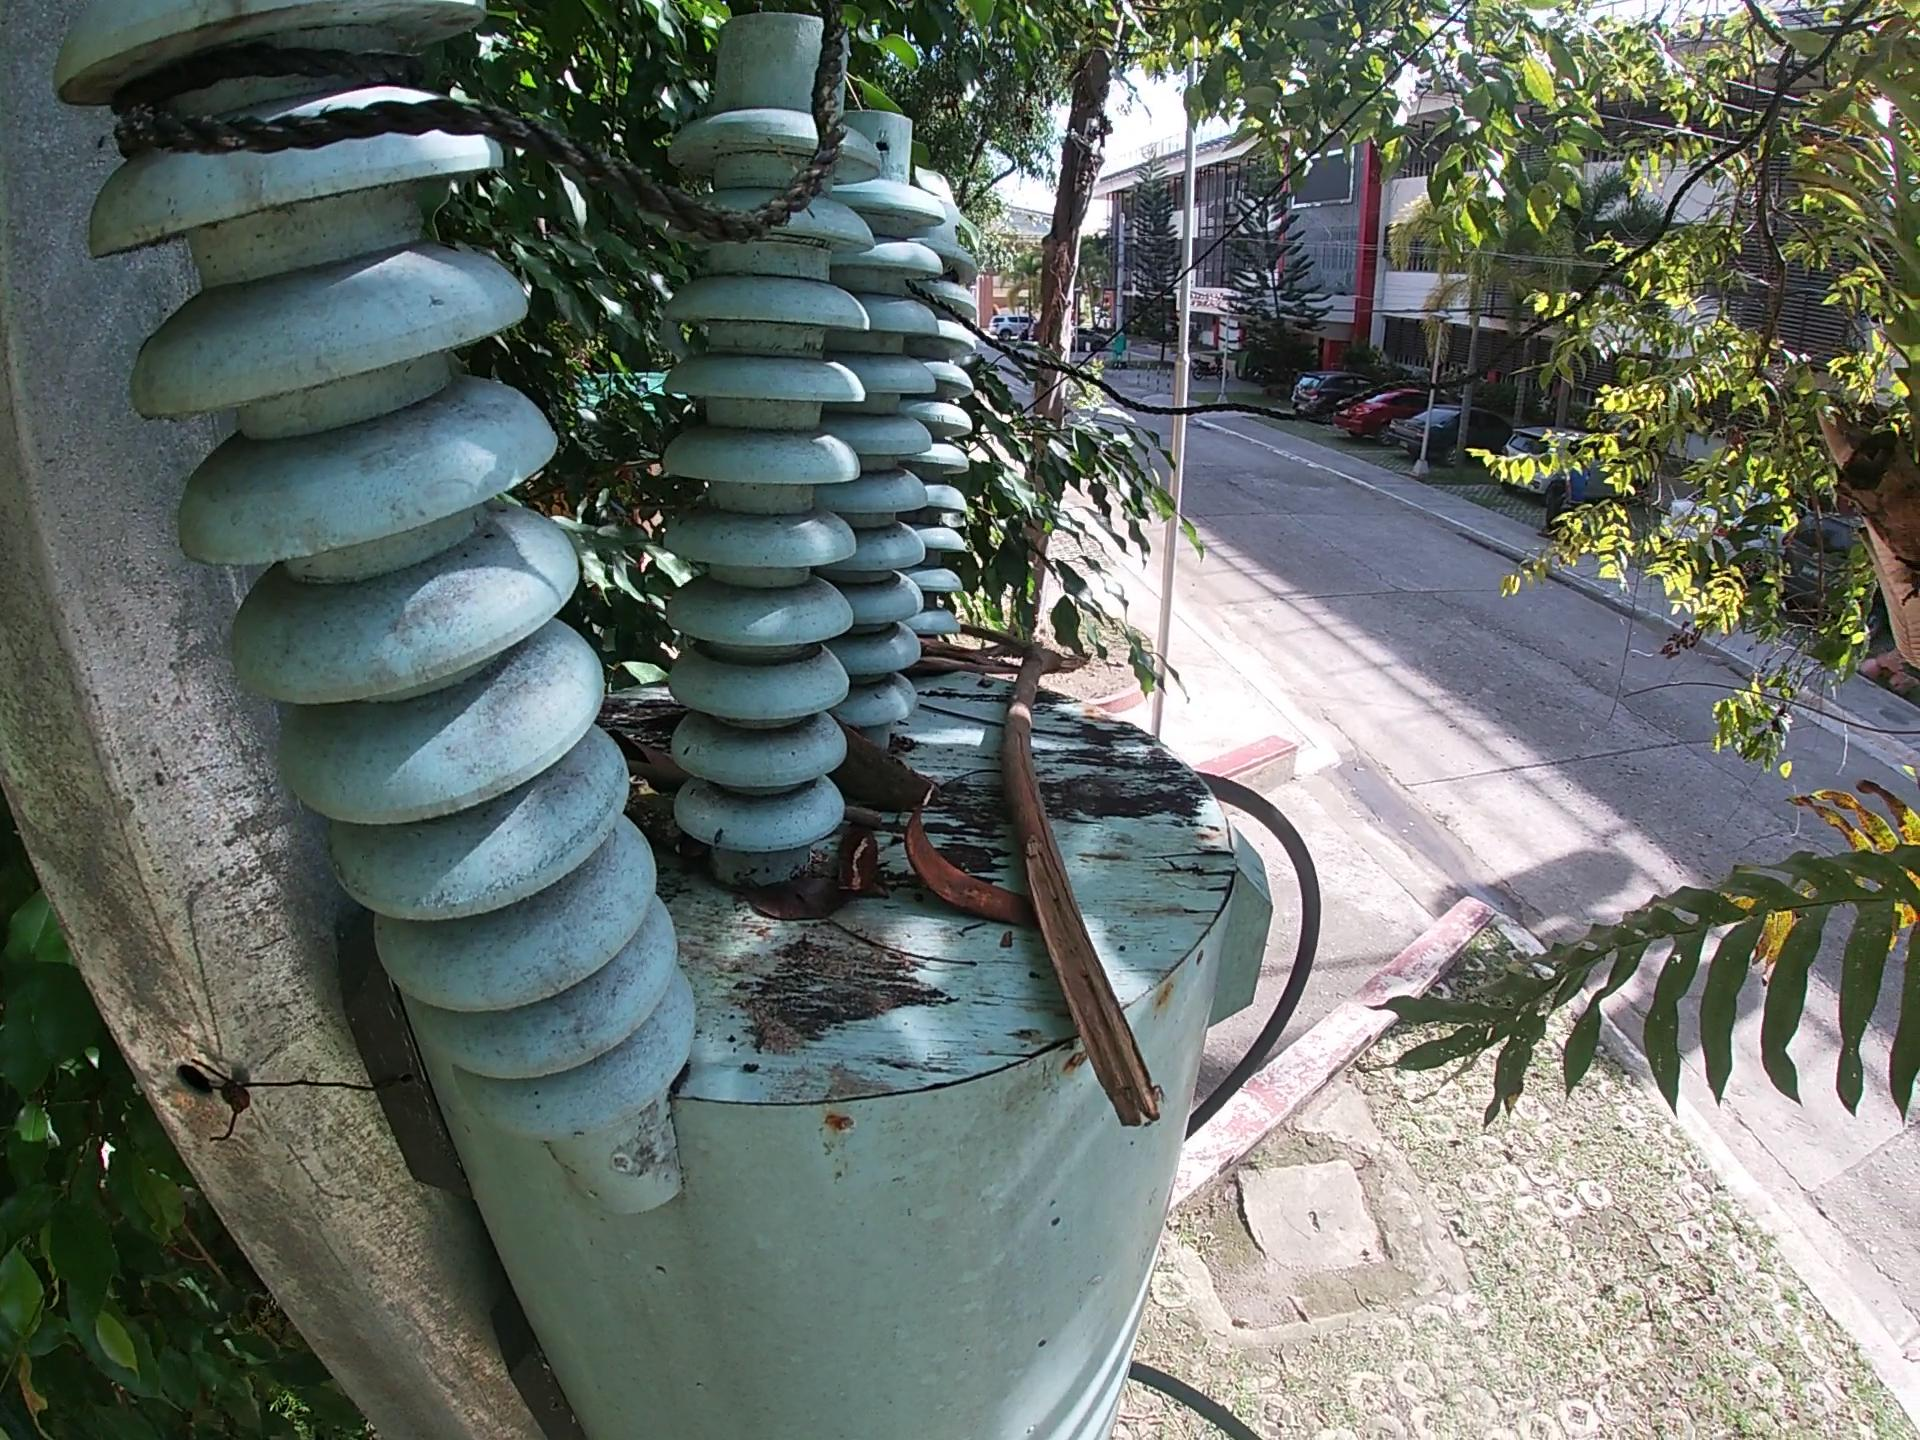leaf: (726, 856, 847, 935)
mahogany fruit: (897, 782, 1043, 930), (825, 709, 949, 818), (830, 821, 878, 908)
tree branch: (949, 614, 1166, 1137), (618, 771, 714, 867), (906, 634, 1028, 681), (621, 762, 695, 788), (833, 802, 881, 827)
